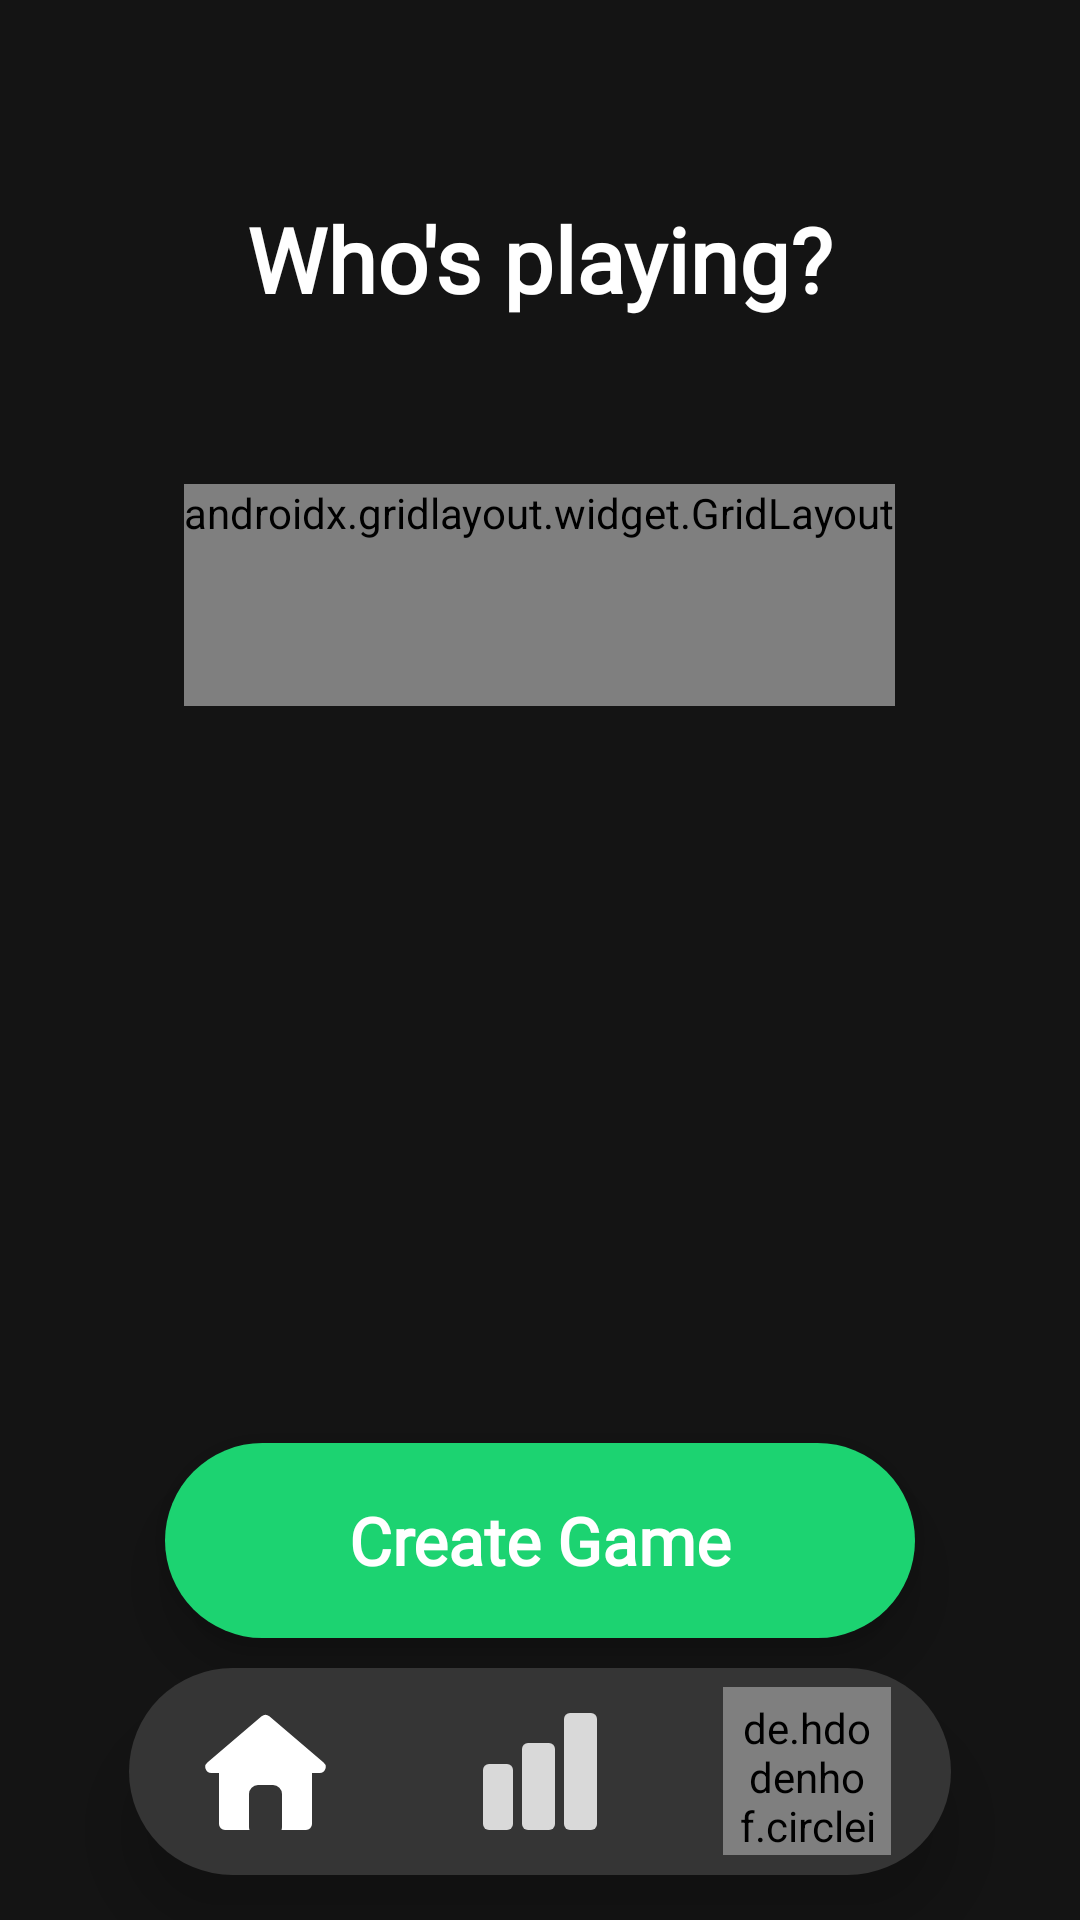

Icon bounding boxes for this 1080*1920 phone screenshot, format BBox(x1, y1, x2, y2):
Home page button: BBox(205, 1714, 326, 1830)
Stats page button: BBox(483, 1713, 597, 1830)
